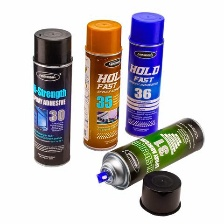aerosol_cans: (94, 114, 206, 194), (29, 26, 74, 169), (81, 16, 125, 155), (122, 8, 167, 141)
